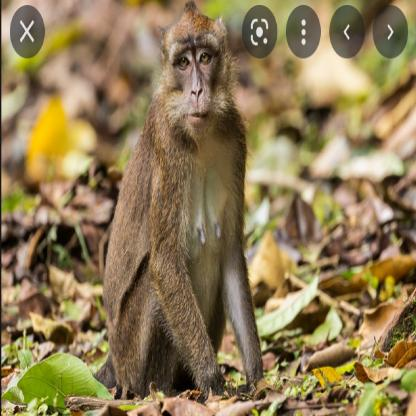monkey: (100, 0, 274, 406)
